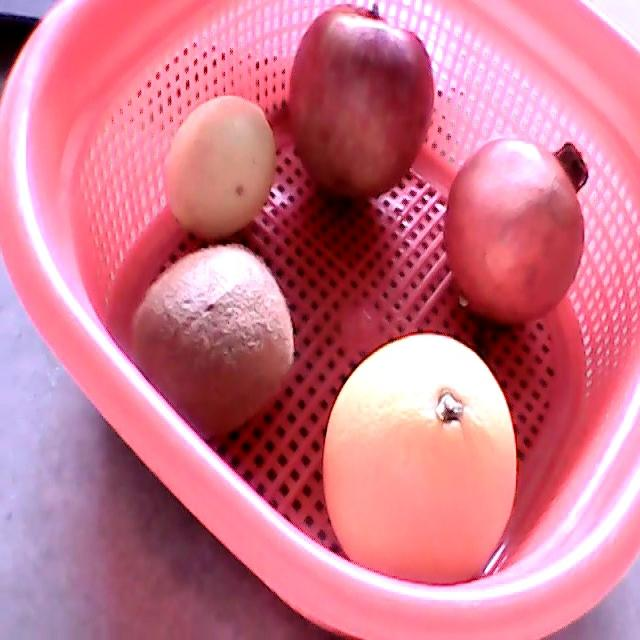apple: (289, 5, 434, 200)
kiwi: (128, 242, 296, 442)
lemon: (162, 92, 276, 239)
orange: (323, 333, 518, 586)
pomegranate: (445, 136, 587, 325)
